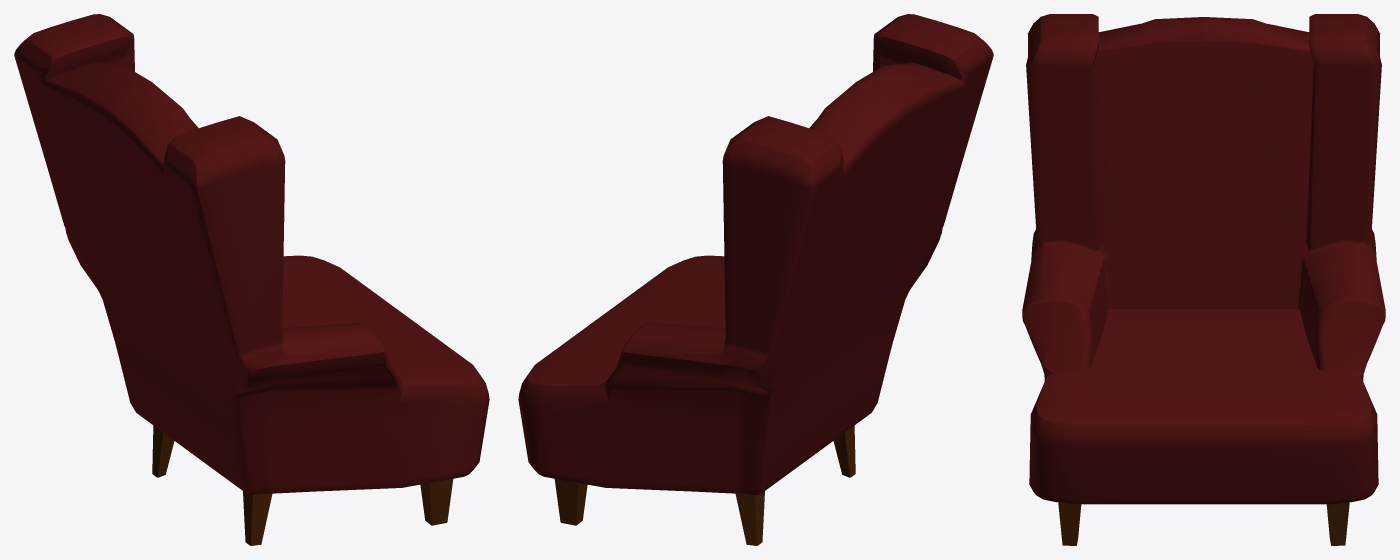
File: Armchair1.fbx
3 renders of one model, left to right at view 1: azimuth 30°, elevation 25°; view 2: azimuth 150°, elevation 25°; view 3: azimuth 270°, elevation 25°, orthographic. The views are drawn at different scales.
Visible parts, largest first — view 1: pCube24; view 2: pCube24; view 3: pCube24.
Boxes of the visible parts, x1,y1,x2,y2 form: pCube24: (14,14,489,545); pCube24: (518,14,993,545); pCube24: (1022,14,1385,545).
Bounding box in the file's own units: 138 × 187 × 147.
Materials: 1 (1 with a texture image).
